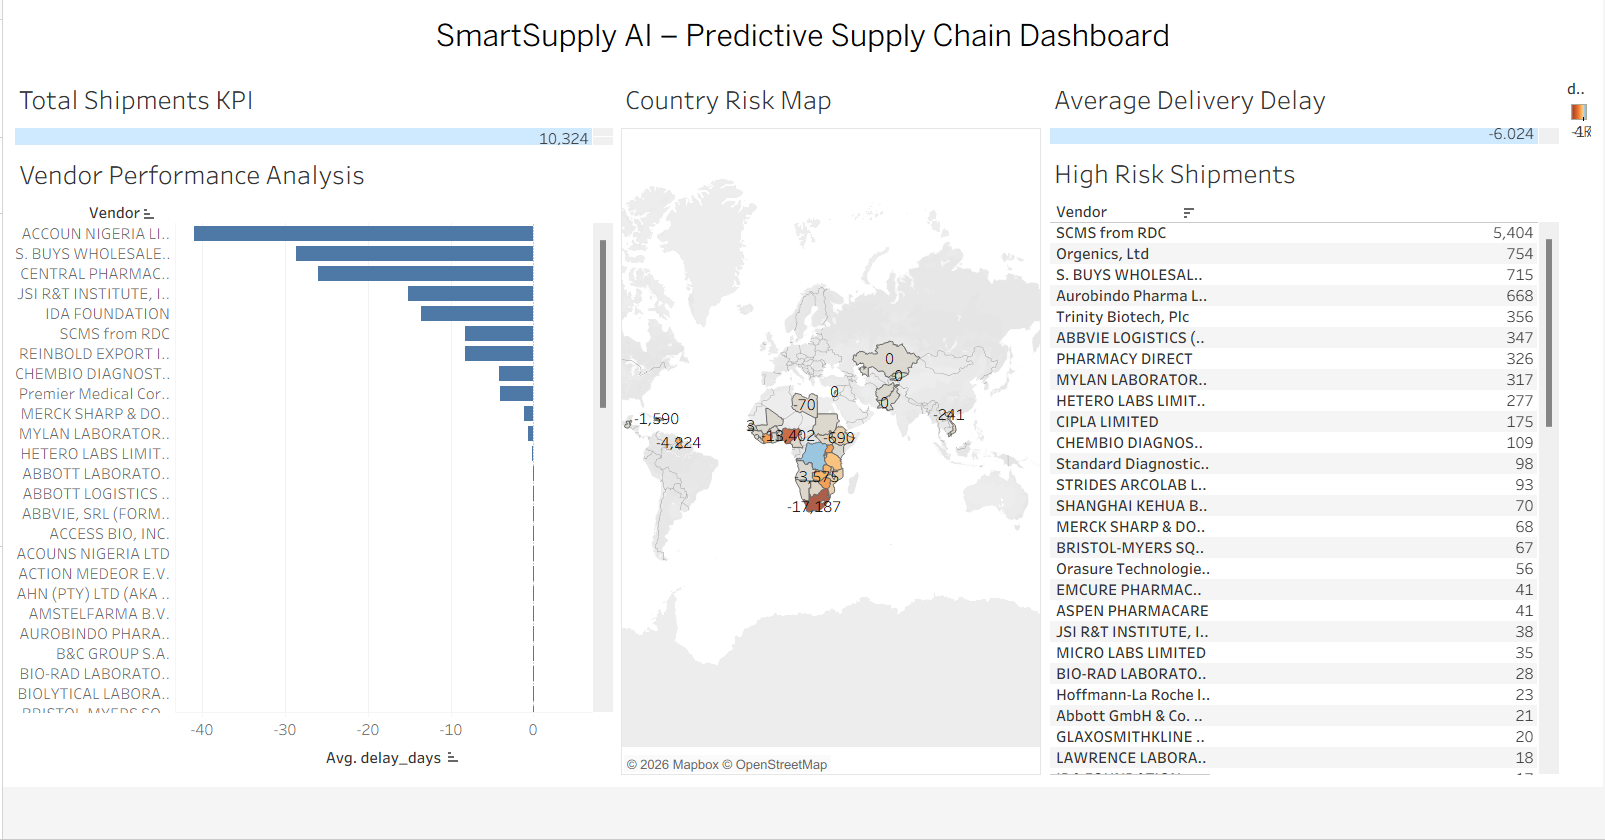

The page's visual inventory and layout, read from the dashboard file:
{"tool":"tableau","page":{"name":"Dashboard 1","canvas":[1600,800],"ordinal":0},"visuals":[{"type":"title","box":[8,8,1584,79]},{"type":"worksheet","title":"Total Shipments KPI","mark":"Automatic","box":[8,87,606.4,75.3]},{"type":"worksheet","title":"Country Risk Map","mark":"Automatic","box":[614.4,87,428.2,705]},{"type":"worksheet","title":"Average Delivery Delay","mark":"Automatic","box":[1042.6,87,517.4,74.4]},{"type":"legend","title":"Country Risk Map","param":"[federated.1j1nrrp0nblz6o1bh1jtd1j0tcdy].[sum:Calculation_1117990547857408:qk]","box":[1560,87,32,73]},{"type":"worksheet","title":"High Risk Shipments","mark":"Automatic","rows":["Vendor"],"box":[1042.6,161.4,517.4,630.6]},{"type":"worksheet","title":"Vendor Performance Analysis","mark":"Automatic","rows":["Vendor"],"cols":["Calculation_1117990547857408"],"box":[8,162.3,606.4,629.7]}]}

Visuals, with their boxes on the page's 1600x800 design canvas (x1, y1, x2, y2). These are canvas units, not pixel positions in the 1605x840 screenshot, which may show the page scaled, cropped or inside an application window:
title: <region>8, 8, 1592, 87</region>
"Total Shipments KPI" worksheet: <region>8, 87, 614, 162</region>
"Country Risk Map" worksheet: <region>614, 87, 1043, 792</region>
"Average Delivery Delay" worksheet: <region>1043, 87, 1560, 161</region>
"Country Risk Map" legend: <region>1560, 87, 1592, 160</region>
"High Risk Shipments" worksheet: <region>1043, 161, 1560, 792</region>
"Vendor Performance Analysis" worksheet: <region>8, 162, 614, 792</region>
